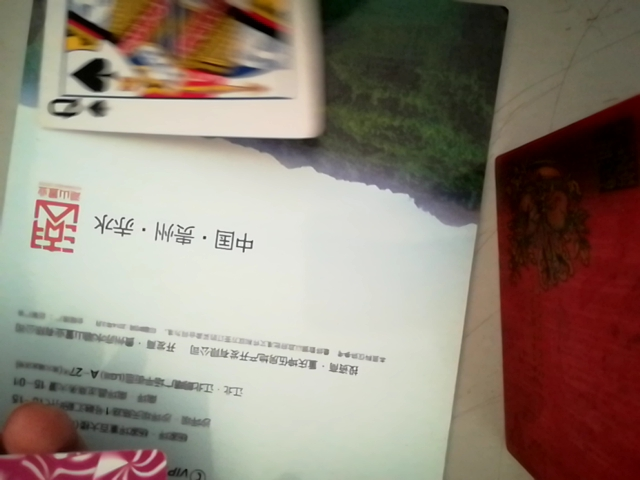ht q: (22, 1, 325, 143)
